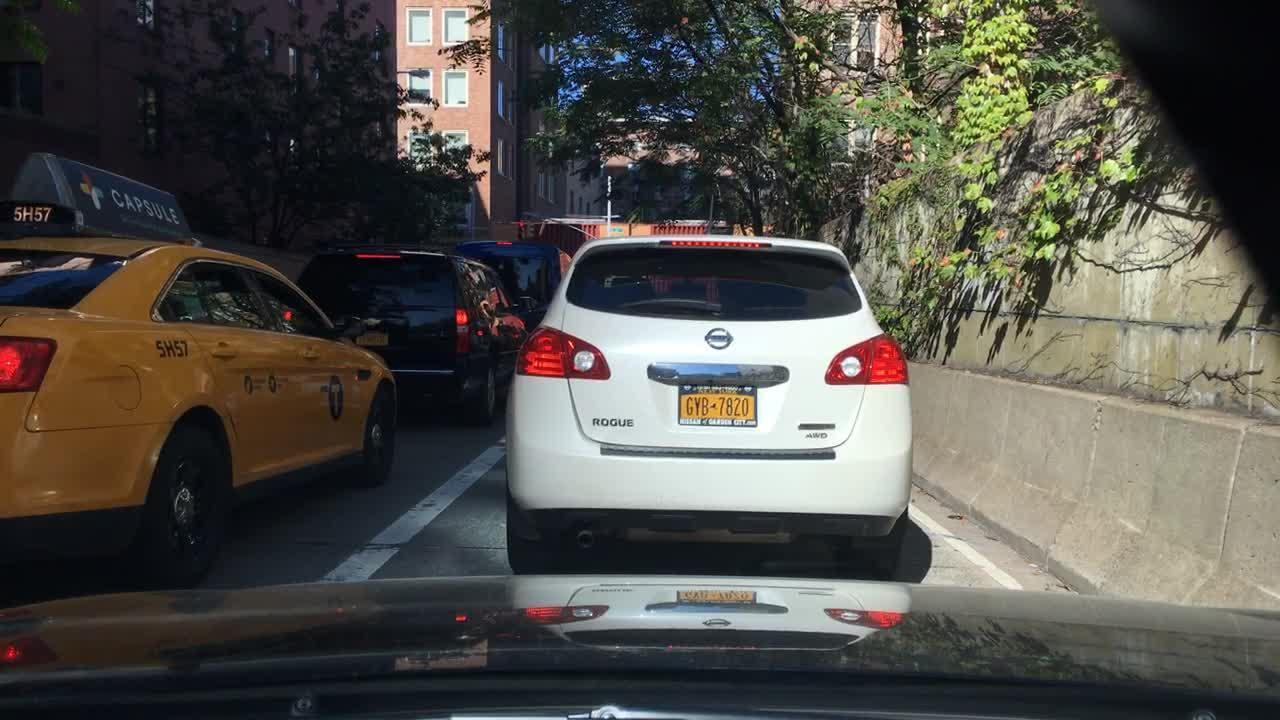Nissan: (695, 316, 745, 362)
chevrolet: (354, 309, 386, 332)
